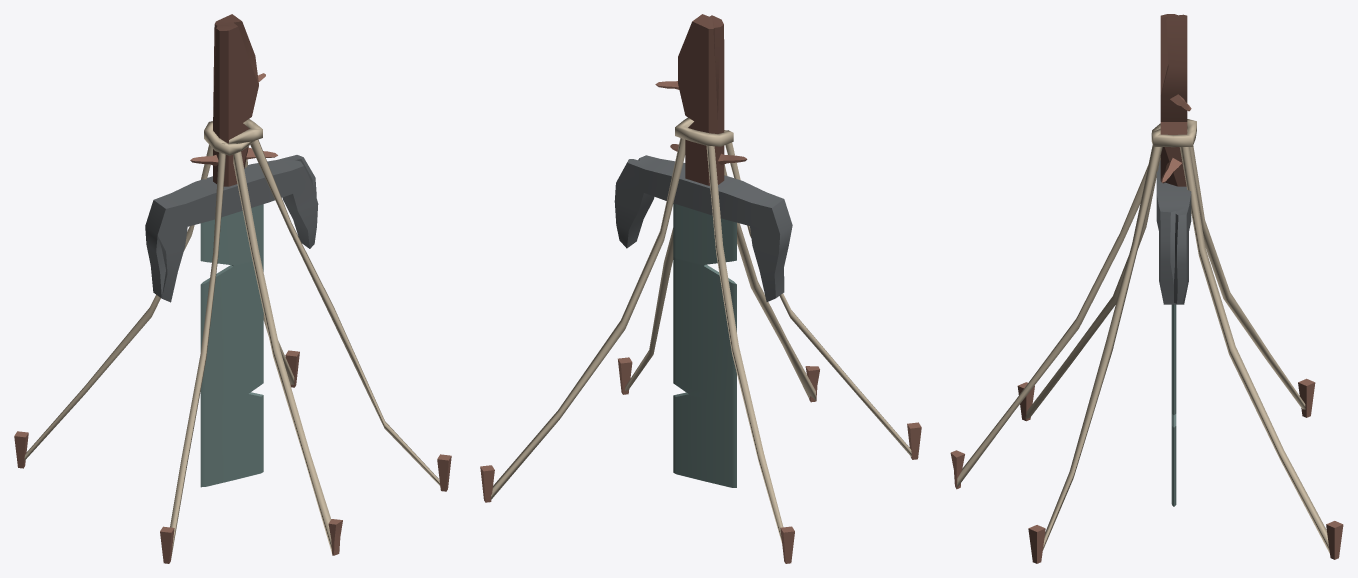
The model's file is SM_Sword_Human.fbx.
3 views of the same model, side by side, from view 1: azimuth 30°, elevation 25°; view 2: azimuth 150°, elevation 25°; view 3: azimuth 270°, elevation 25° (orthographic). The views are drawn at different scales.
Visible parts, largest first — view 1: Sword_Human; view 2: Sword_Human; view 3: Sword_Human.
Boxes of the visible parts, x1=… form: Sword_Human: x1=14, y1=14, x2=451, y2=563; Sword_Human: x1=480, y1=14, x2=921, y2=563; Sword_Human: x1=950, y1=14, x2=1343, y2=563.
Bounding box in the file's own units: 143 × 204 × 153.
